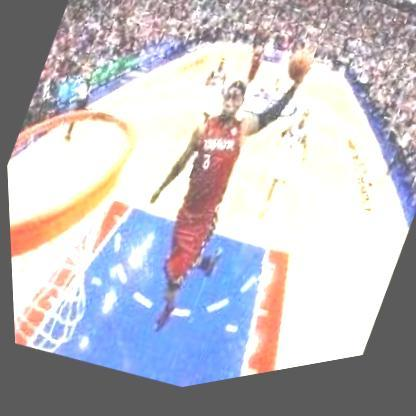basketball: (276, 50, 319, 101)
